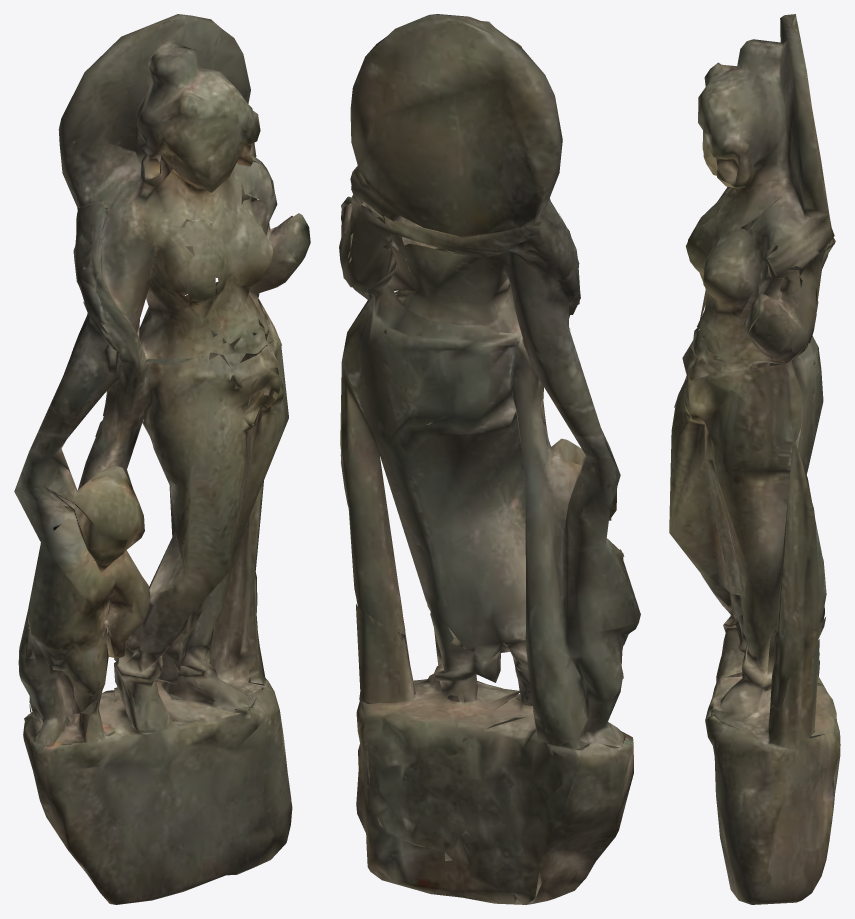
The model's file is mother-goddess-lo.glb.
3 renders of one model, left to right at view 1: azimuth 30°, elevation 25°; view 2: azimuth 150°, elevation 25°; view 3: azimuth 270°, elevation 25°, orthographic. The views are drawn at different scales.
Visible parts, largest first — view 1: Object_3, Object_2; view 2: Object_2, Object_3; view 3: Object_3, Object_2.
Part boxes in pixels (x1,y1,x2,y2): Object_3: (23,14,310,904); Object_2: (14,161,292,746); Object_2: (340,200,640,904); Object_3: (339,14,633,904); Object_3: (674,14,840,904); Object_2: (669,194,840,818).
Size of the model in its own units: 0.275 by 0.7943 by 0.1461.
1 material, 1 textured.
